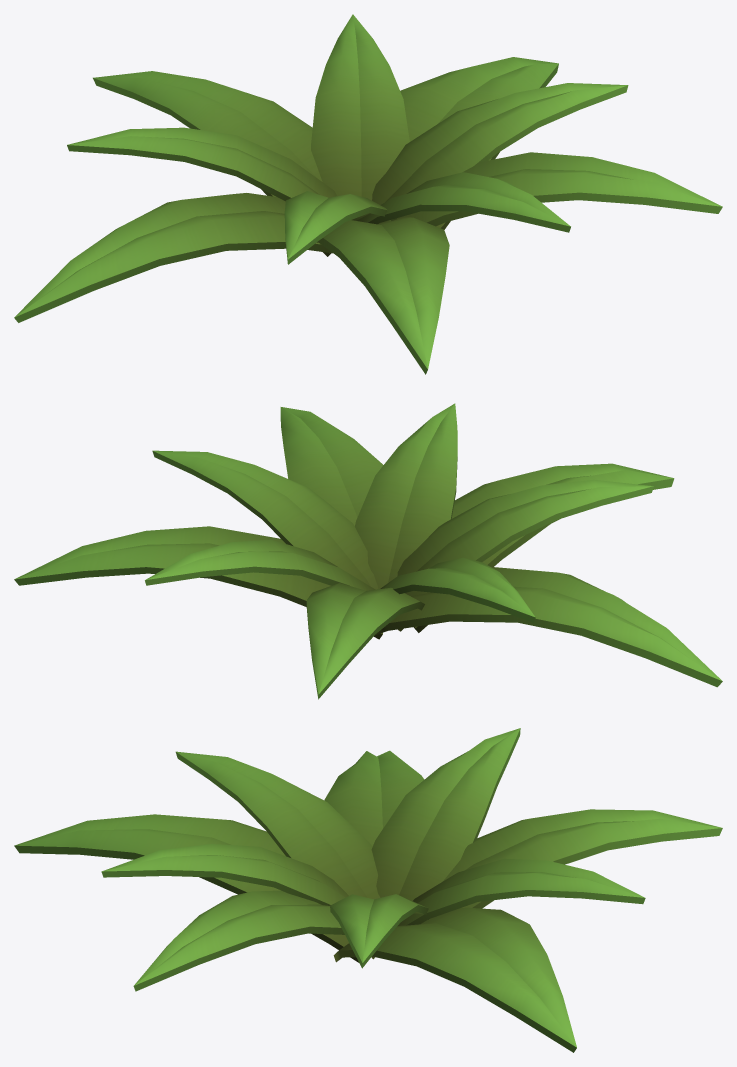
The model's file is Grass.fbx.
The picture shows the model from 3 angles, top to bottom: view 1: azimuth 30°, elevation 25°; view 2: azimuth 150°, elevation 25°; view 3: azimuth 270°, elevation 25°; orthographic projection. The views are drawn at different scales.
Visible parts, largest first — view 1: Herb; view 2: Herb; view 3: Herb.
Boxes of the visible parts, <box> form: Herb: <box>14,14,722,374</box>; Herb: <box>14,403,722,699</box>; Herb: <box>14,728,722,1052</box>.
Bounding box in the file's own units: 209 × 37.33 × 199.
